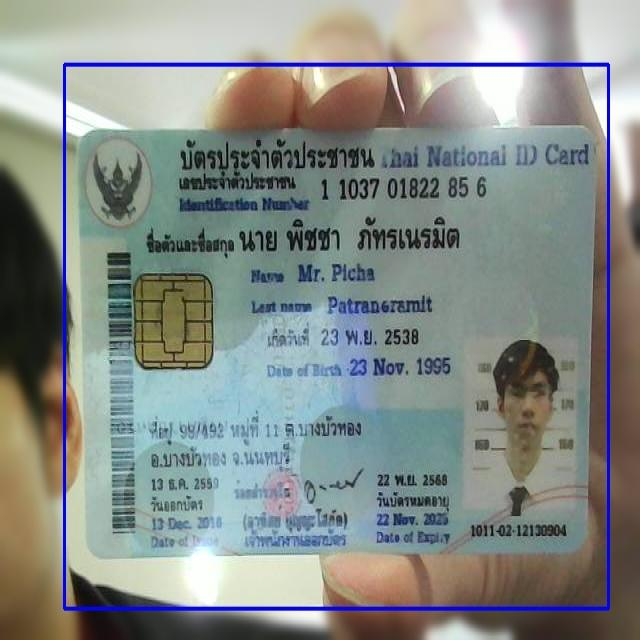Address_th: (145, 406, 369, 477)
Date_of_Birth: (346, 352, 456, 383)
Date_of_Expiry: (372, 508, 453, 531)
Date_of_Issue: (146, 512, 228, 532)
First_Name: (294, 256, 378, 287)
ID_Number: (316, 172, 490, 204)
Image: (466, 337, 575, 514)
Last_Name: (324, 290, 436, 318)
Thai_Name: (235, 211, 472, 260)
